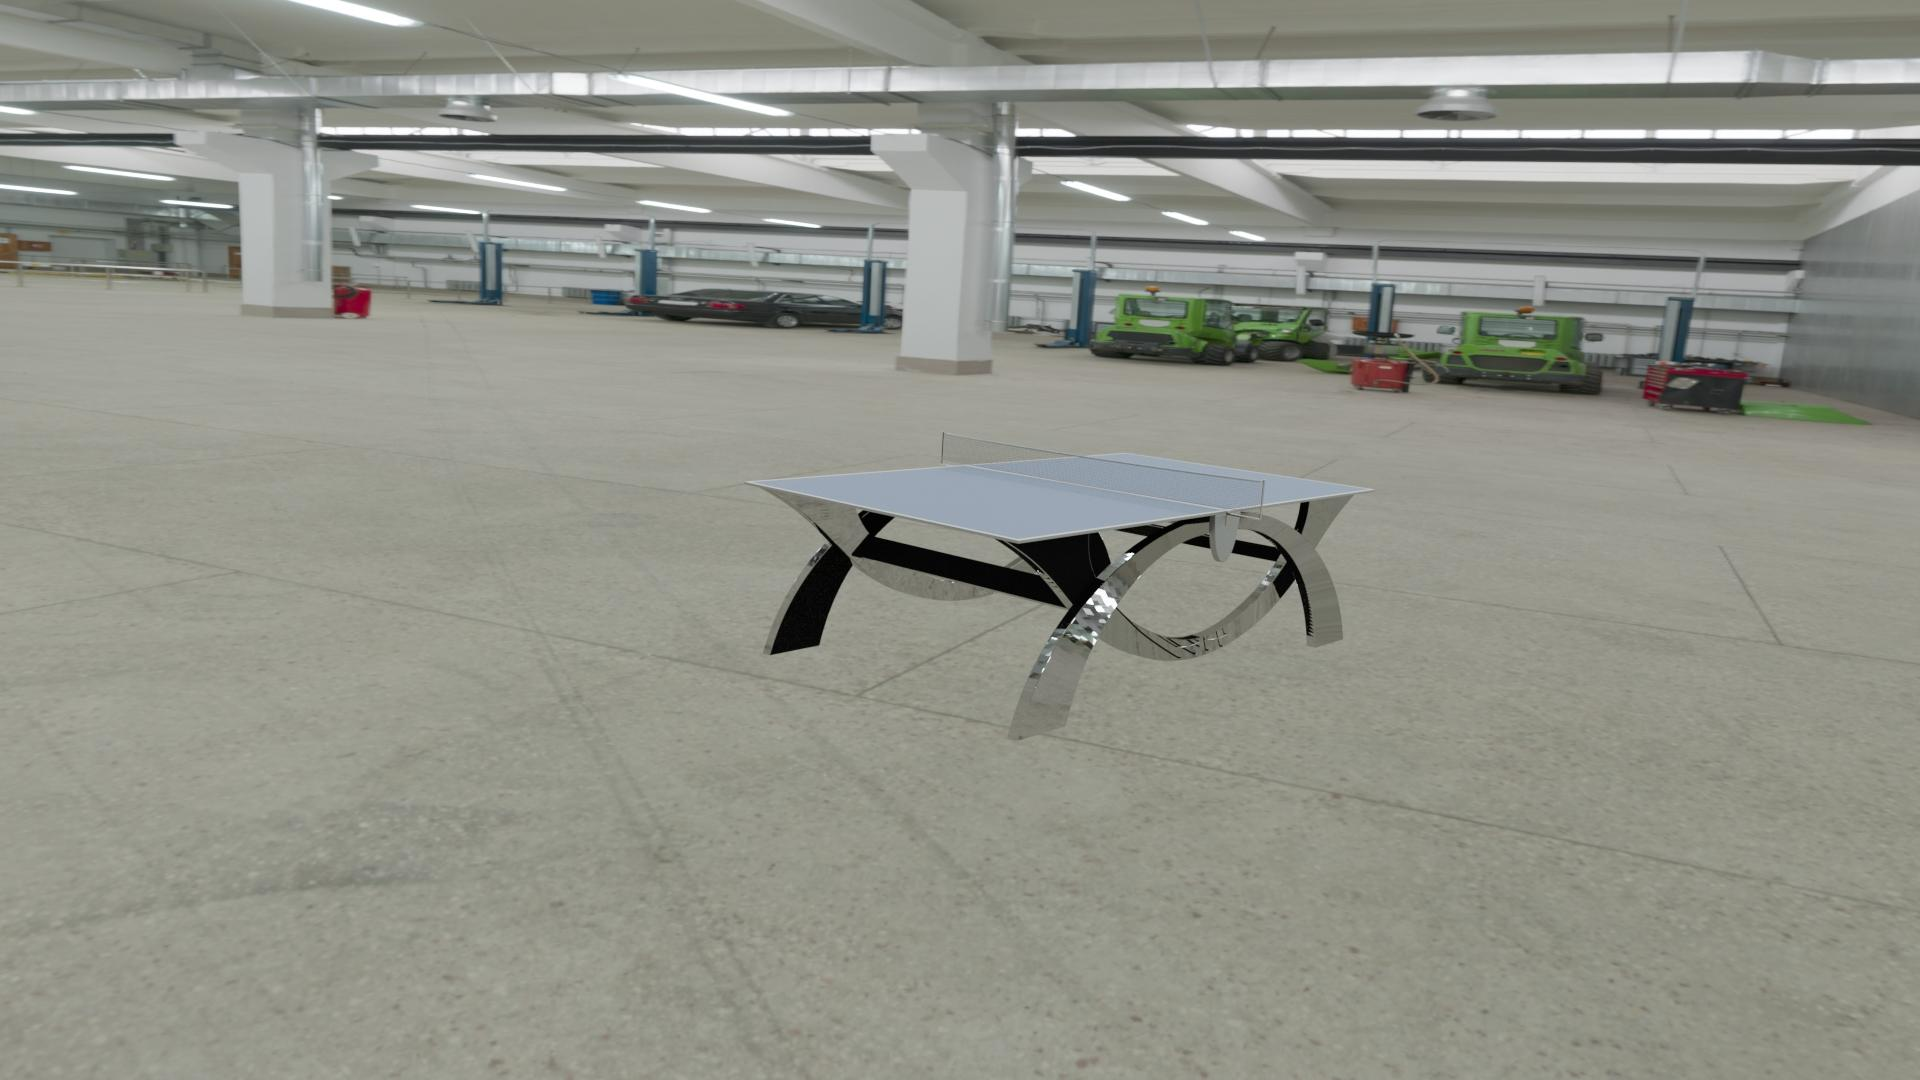table: (751, 453, 1370, 539)
